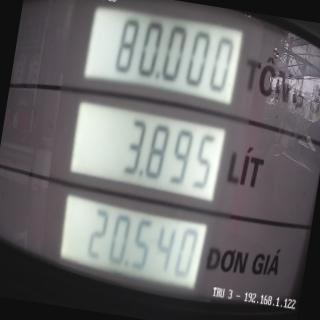screen: (43, 0, 249, 309)
